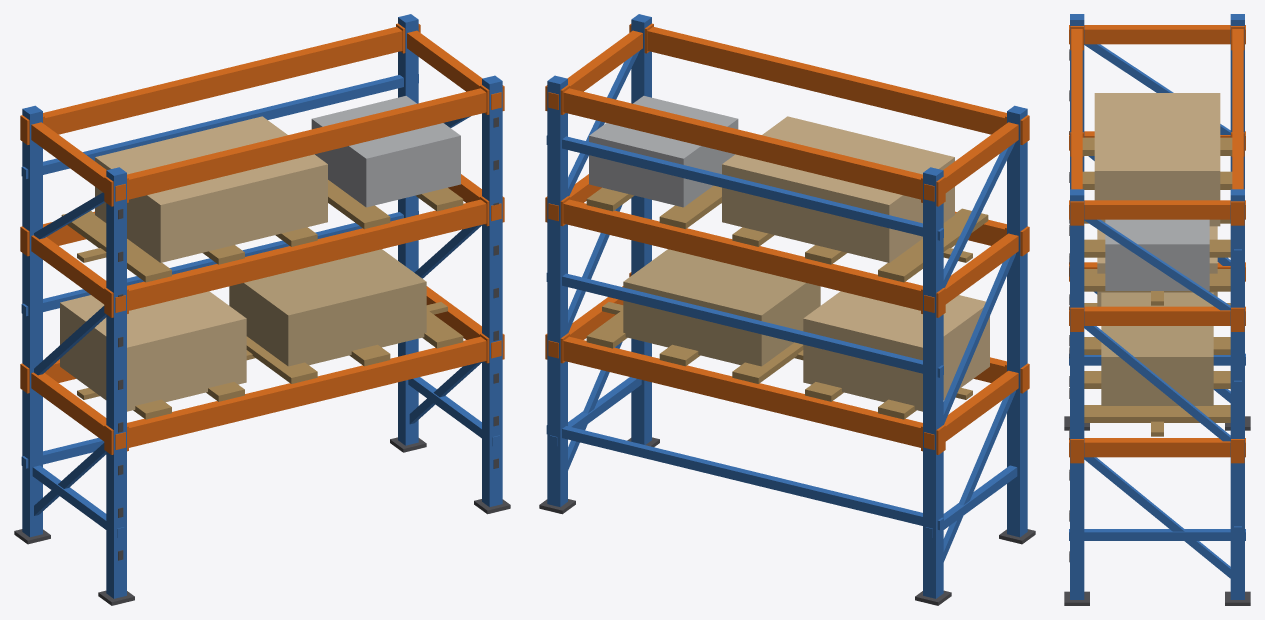
Rendered from rack.glb.
3 views of the same model, side by side, from view 1: azimuth 30°, elevation 25°; view 2: azimuth 150°, elevation 25°; view 3: azimuth 270°, elevation 25° (orthographic). The views are drawn at different scales.
Visible parts, largest first — view 1: LoadBoxC, LoadBoxB, LoadBoxA, BeamL2F0, BeamL2F1, BeamL1F0, BeamL0F0, LoadBoxD, Upright00, Upright10, Upright01, BackTie24 (+21 smaller); view 2: LoadBoxC, LoadBoxB, LoadBoxA, BeamL2F1, BeamL2F0, BeamL1F1, BeamL0F1, Upright01, Upright11, LoadBoxD, Upright00, BackTie15 (+23 smaller); view 3: LoadBoxC, LoadBoxB, LoadBoxD, Upright10, Upright11, SideBeam2-12, SideBeam212, SideBeam012, SideBeam112, DeckPallet0_4, BeamL2F1, BeamL2F0 (+15 smaller).
Boxes of the visible parts, bbox=[...] form: LoadBoxC: bbox=[95, 116, 327, 262]; LoadBoxB: bbox=[229, 249, 426, 366]; LoadBoxA: bbox=[60, 291, 246, 411]; BeamL2F0: bbox=[105, 88, 486, 203]; BeamL2F1: bbox=[21, 27, 402, 142]; BeamL1F0: bbox=[105, 199, 486, 314]; BeamL0F0: bbox=[105, 336, 486, 451]; LoadBoxD: bbox=[311, 96, 460, 207]; Upright00: bbox=[106, 167, 126, 598]; Upright10: bbox=[482, 75, 502, 507]; Upright01: bbox=[22, 105, 42, 537]; BackTie24: bbox=[21, 74, 418, 178]; LoadBoxC: bbox=[722, 116, 954, 262]; LoadBoxB: bbox=[623, 249, 820, 366]; LoadBoxA: bbox=[803, 291, 989, 411]; BeamL2F1: bbox=[563, 88, 944, 203]; BeamL2F0: bbox=[647, 27, 1028, 142]; BeamL1F1: bbox=[563, 199, 944, 314]; BeamL0F1: bbox=[563, 336, 944, 451]; Upright01: bbox=[923, 167, 943, 598]; Upright11: bbox=[547, 75, 567, 507]; LoadBoxD: bbox=[589, 96, 738, 207]; Upright00: bbox=[1007, 105, 1027, 537]; BackTie15: bbox=[546, 273, 943, 377]; LoadBoxC: bbox=[1094, 93, 1220, 226]; LoadBoxB: bbox=[1101, 292, 1213, 405]; LoadBoxD: bbox=[1105, 219, 1209, 290]; Upright10: bbox=[1070, 189, 1084, 599]; Upright11: bbox=[1230, 189, 1244, 599]; SideBeam2-12: bbox=[1069, 25, 1245, 44]; SideBeam212: bbox=[1069, 200, 1245, 219]; SideBeam012: bbox=[1069, 438, 1245, 457]; SideBeam112: bbox=[1069, 306, 1245, 325]; DeckPallet0_4: bbox=[1084, 405, 1230, 422]; BeamL2F1: bbox=[1232, 29, 1243, 223]; BeamL2F0: bbox=[1071, 29, 1082, 223].
Bounding box in the file's own units: 2.74 × 2.8 × 1.16.
